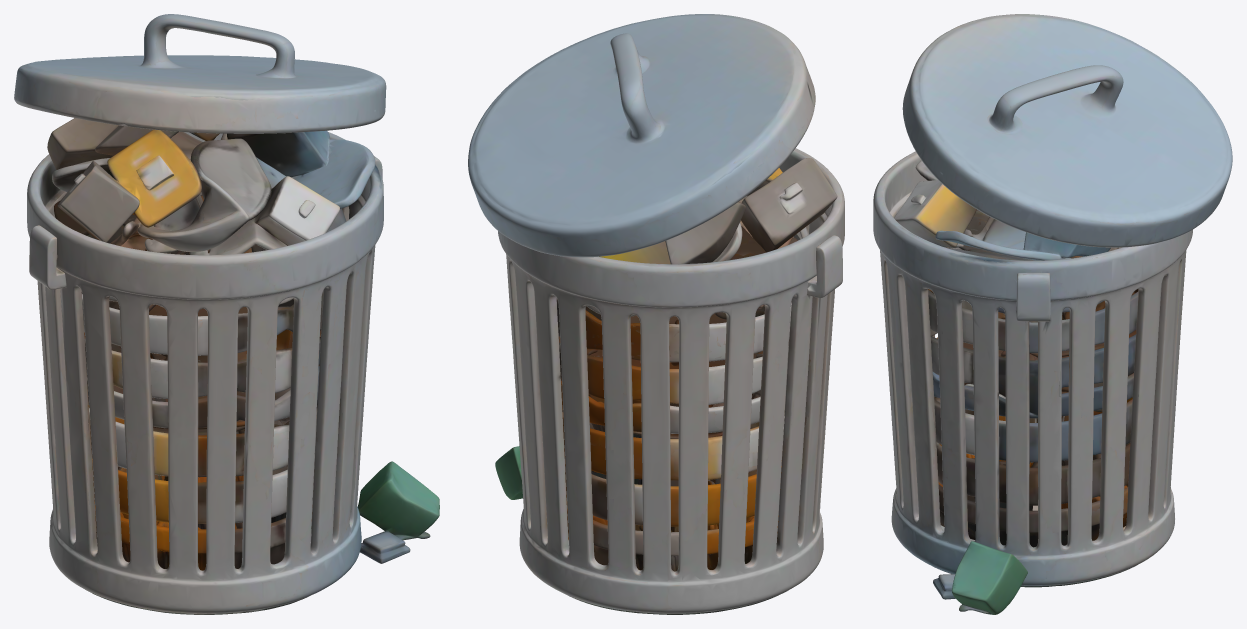
File: crushed_garbage_can_170145ca_v3.glb
3 renders of one model, left to right at view 1: azimuth 30°, elevation 25°; view 2: azimuth 150°, elevation 25°; view 3: azimuth 270°, elevation 25°, orthographic. The views are drawn at different scales.
Parts seen in each view (by area): view 1: material; view 2: material; view 3: material.
Part boxes in pixels (left/top/right/bottom): material: left=14, top=14, right=439, bottom=614; material: left=468, top=14, right=844, bottom=614; material: left=873, top=14, right=1232, bottom=614.
Size of the model in its own units: 0.732 by 0.9642 by 0.6686.
Materials: 1 (1 with a texture image).
